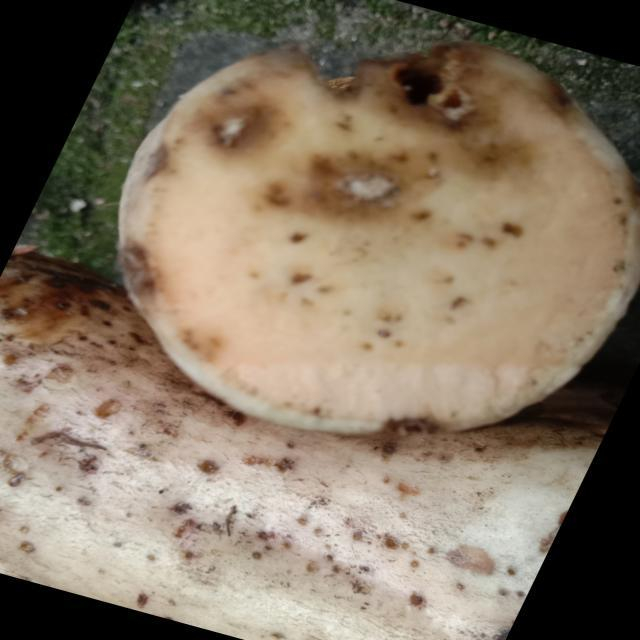Sick Sweet Potato_Tuber Rot: (118, 42, 638, 434)
